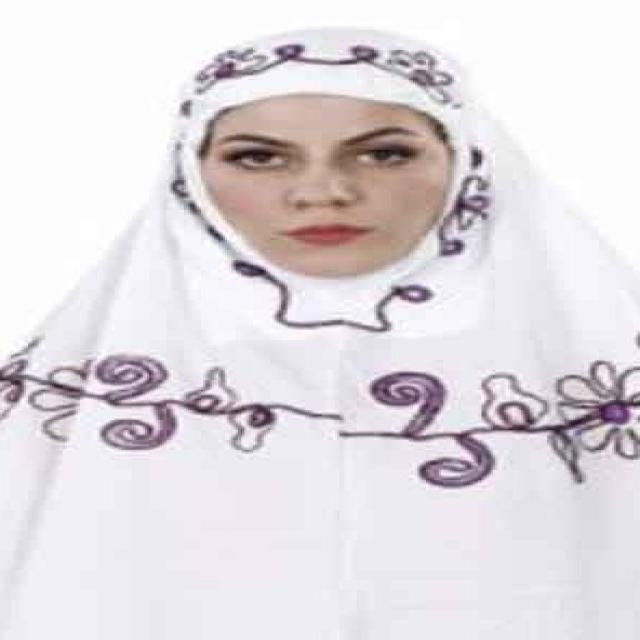head: (146, 24, 505, 294)
